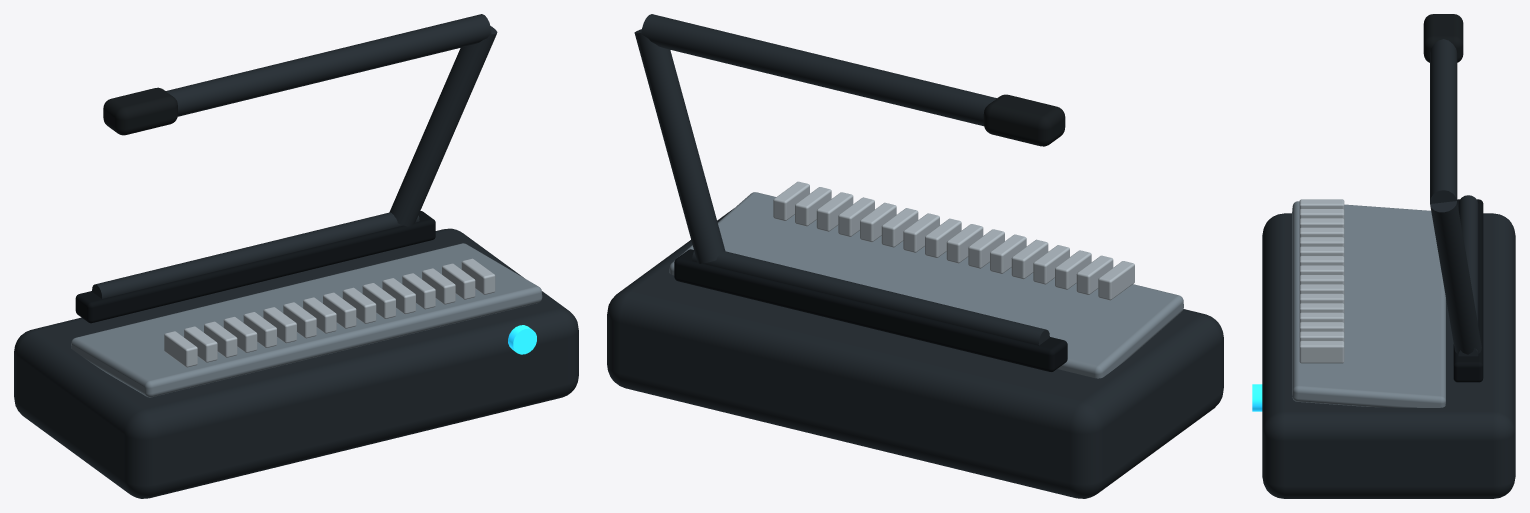
File: binding-machine.glb
3 views of the same model, side by side, from view 1: azimuth 30°, elevation 25°; view 2: azimuth 150°, elevation 25°; view 3: azimuth 270°, elevation 25° (orthographic). The views are drawn at different scales.
Parts seen in each view (by area): view 1: Binding machine base, Paper guide deck, Premium office comb binding machine, Comb opener tooth (×16), Punch entry, Punch handle grip, Margin control; view 2: Binding machine base, Paper guide deck, Premium office comb binding machine, Comb opener tooth (×16), Punch entry, Punch handle grip; view 3: Binding machine base, Paper guide deck, Premium office comb binding machine, Comb opener tooth (×16), Punch entry, Punch handle grip, Margin control.
Boxes of the visible parts, <box> form: Binding machine base: <box>14,228,578,498</box>; Paper guide deck: <box>71,243,542,397</box>; Premium office comb binding machine: <box>92,14,497,298</box>; Comb opener tooth (×16): <box>164,258,495,367</box>; Punch entry: <box>75,211,435,323</box>; Punch handle grip: <box>103,87,177,135</box>; Margin control: <box>508,325,536,354</box>; Binding machine base: <box>607,208,1223,498</box>; Paper guide deck: <box>669,192,1183,378</box>; Premium office comb binding machine: <box>634,14,1049,345</box>; Comb opener tooth (×16): <box>773,181,1134,300</box>; Punch entry: <box>674,249,1067,371</box>; Punch handle grip: <box>983,94,1065,146</box>; Binding machine base: <box>1262,213,1515,498</box>; Paper guide deck: <box>1292,201,1445,407</box>; Premium office comb binding machine: <box>1430,39,1481,356</box>; Comb opener tooth (×16): <box>1299,199,1344,363</box>; Punch entry: <box>1453,199,1483,382</box>; Punch handle grip: <box>1423,14,1463,62</box>; Margin control: <box>1252,384,1262,411</box>.
Size of the model in its own units: 2.06 by 1.39 by 1.06.
